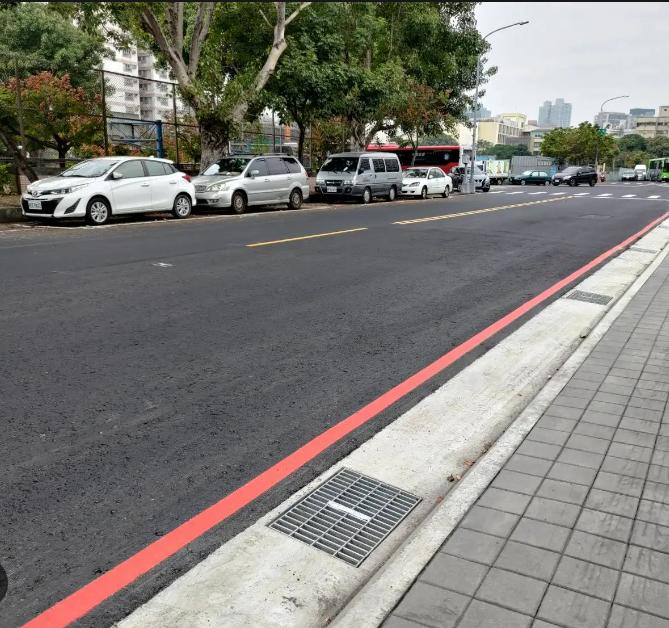wellcover: (256, 463, 432, 574), (551, 280, 618, 321)
